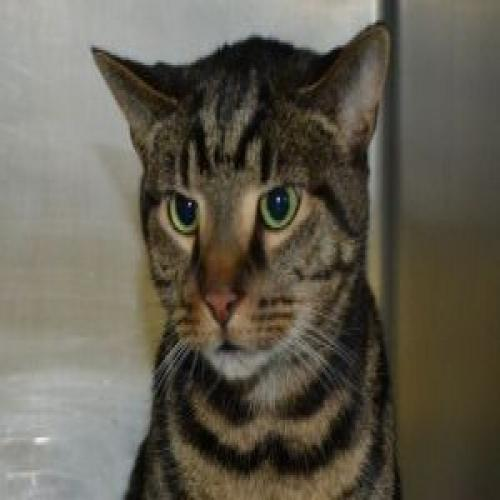cat-face: (82, 1, 407, 400)
